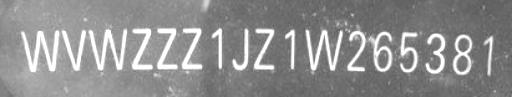letter: (17, 29, 61, 72), (302, 27, 344, 72), (87, 27, 129, 72), (152, 26, 180, 71), (60, 27, 88, 72), (129, 25, 155, 72), (251, 26, 277, 71), (424, 30, 448, 77), (179, 26, 203, 71), (344, 28, 368, 73), (450, 32, 474, 77), (230, 26, 252, 71), (397, 29, 419, 74), (372, 30, 394, 73), (282, 25, 298, 72), (210, 26, 226, 71), (480, 33, 494, 78)
